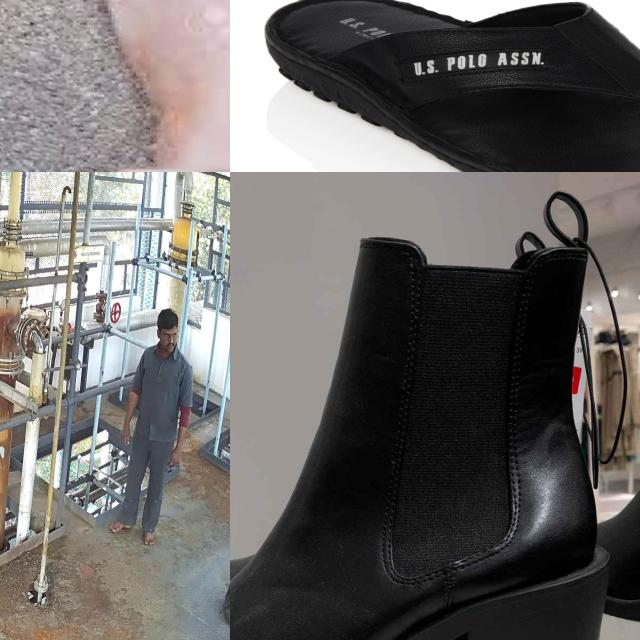Barefoots: (64, 0, 230, 170)
No_Ear-Protection: (156, 329, 160, 339)
No_Glasses: (163, 332, 176, 338)
Sandals: (230, 177, 633, 640), (261, 0, 640, 172)
hand_noglove: (122, 392, 140, 443), (170, 425, 187, 465)
head_nohelmet: (157, 309, 178, 330)
